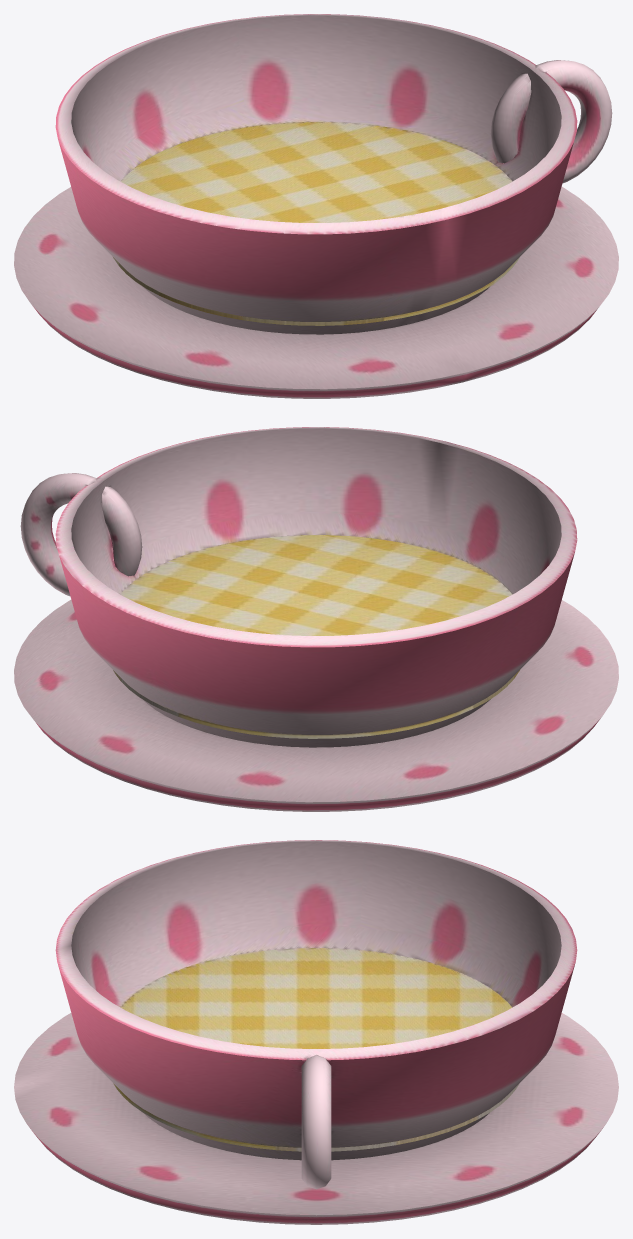
The model's file is teacup_bed.glb.
3 views of the same model, one above another, from view 1: azimuth 30°, elevation 25°; view 2: azimuth 150°, elevation 25°; view 3: azimuth 270°, elevation 25° (orthographic).
Parts seen in each view (by area): view 1: teacup_bed; view 2: teacup_bed; view 3: teacup_bed.
Part boxes in pixels (bbox=[...]): teacup_bed: bbox=[14, 14, 618, 398]; teacup_bed: bbox=[14, 427, 618, 811]; teacup_bed: bbox=[14, 840, 618, 1224].
Size of the model in its own units: 1.23 by 0.33 by 1.16.
1 material, 1 textured.
